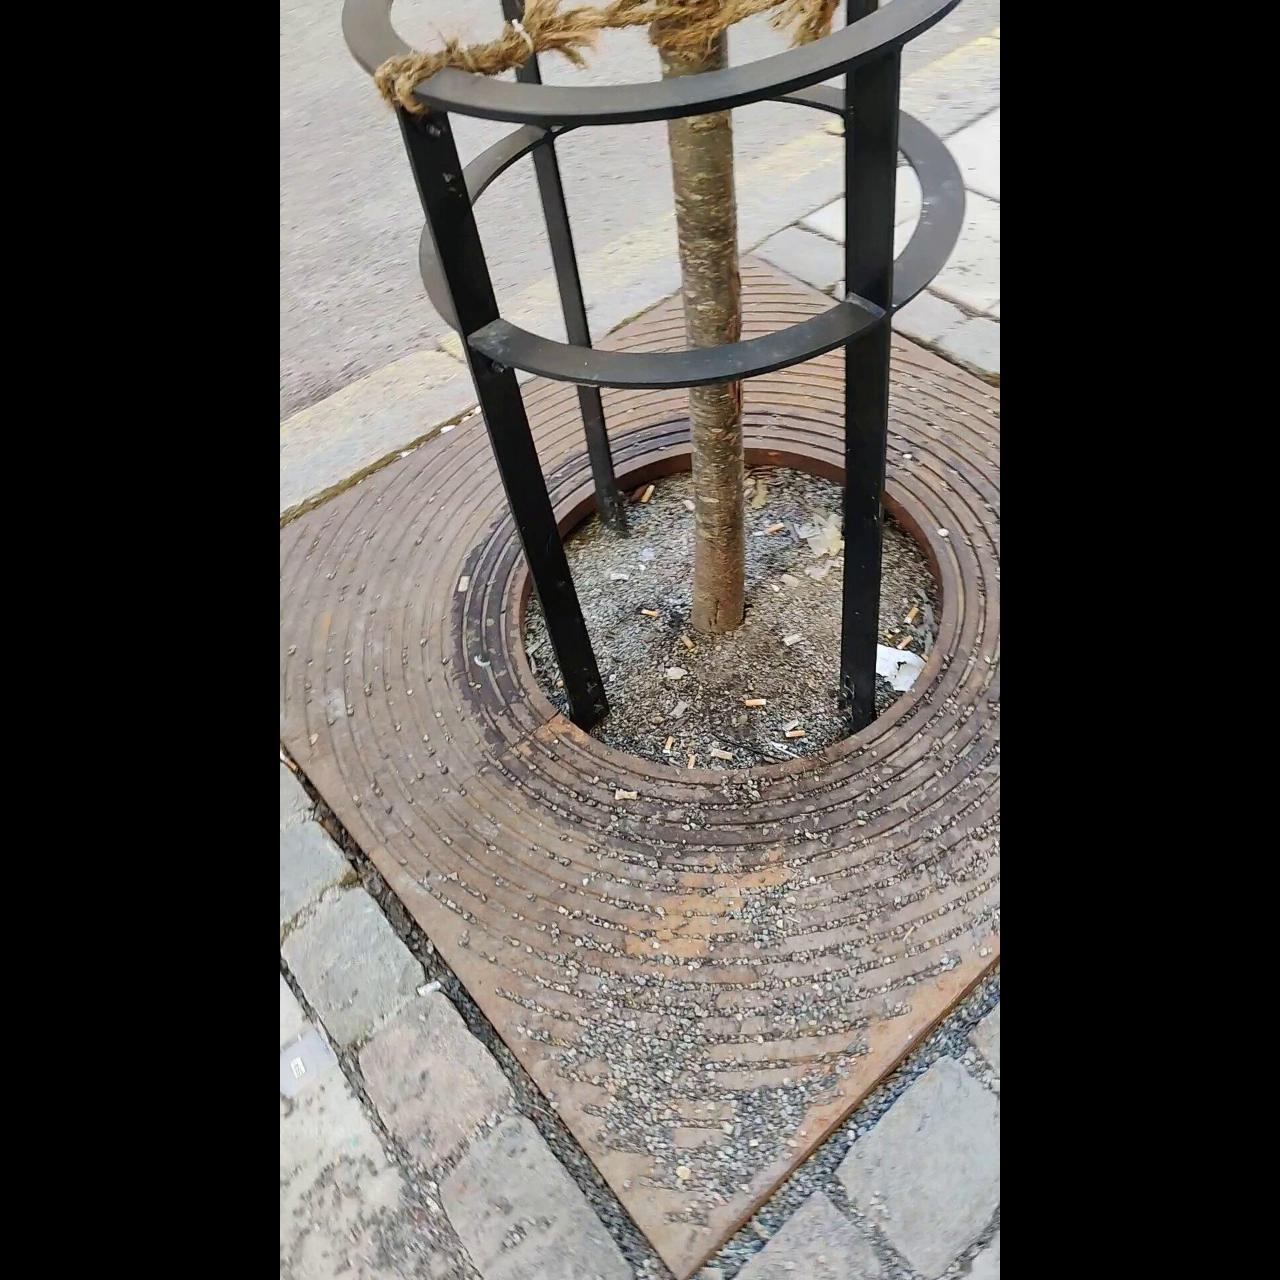cigarettes_butts: (280, 753, 300, 774), (903, 606, 919, 626), (783, 728, 805, 741), (644, 482, 655, 504), (763, 523, 783, 536), (744, 699, 768, 709), (660, 737, 674, 755), (642, 606, 660, 617), (900, 635, 912, 651), (686, 754, 696, 768)
others: (710, 747, 734, 761), (457, 574, 471, 593), (783, 634, 803, 647), (607, 572, 631, 583), (617, 790, 638, 801)
